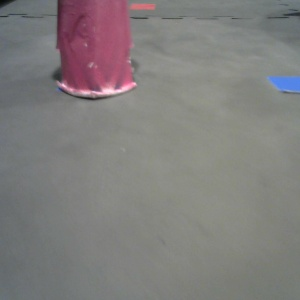Right: (209, 1, 293, 93)
